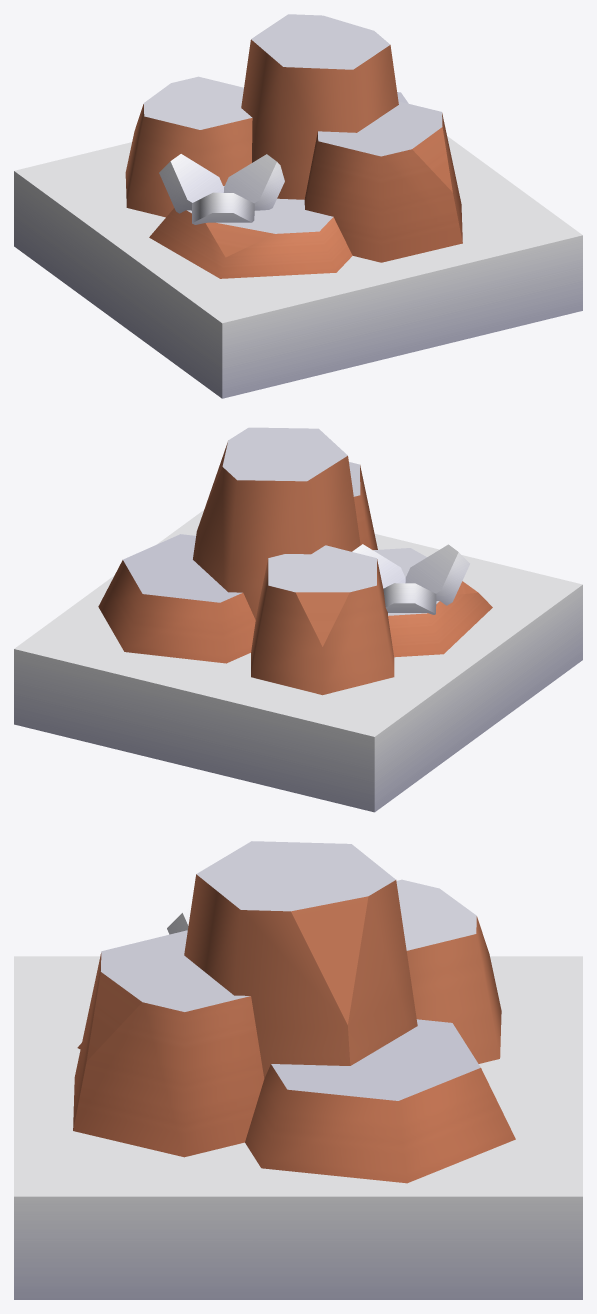
The model's file is snow-tile-rock.gltf.
3 renders of one model, top to bottom at view 1: azimuth 30°, elevation 25°; view 2: azimuth 150°, elevation 25°; view 3: azimuth 270°, elevation 25°, orthographic. The views are drawn at different scales.
Visible parts, largest first — view 1: snow-tile-rock; view 2: snow-tile-rock; view 3: snow-tile-rock.
Boxes of the visible parts, box(x1,y1,x2,y2) form: snow-tile-rock: box(14, 14, 582, 398); snow-tile-rock: box(14, 427, 582, 812); snow-tile-rock: box(14, 841, 582, 1299).
Bounding box in the file's own units: 1 × 0.6145 × 1.
Materials: 1 (1 with a texture image).
